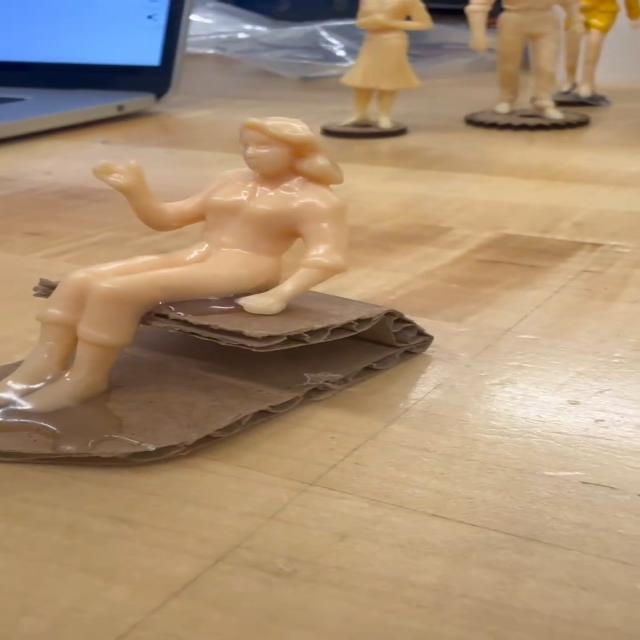Unauthorized: (14, 101, 355, 435)
